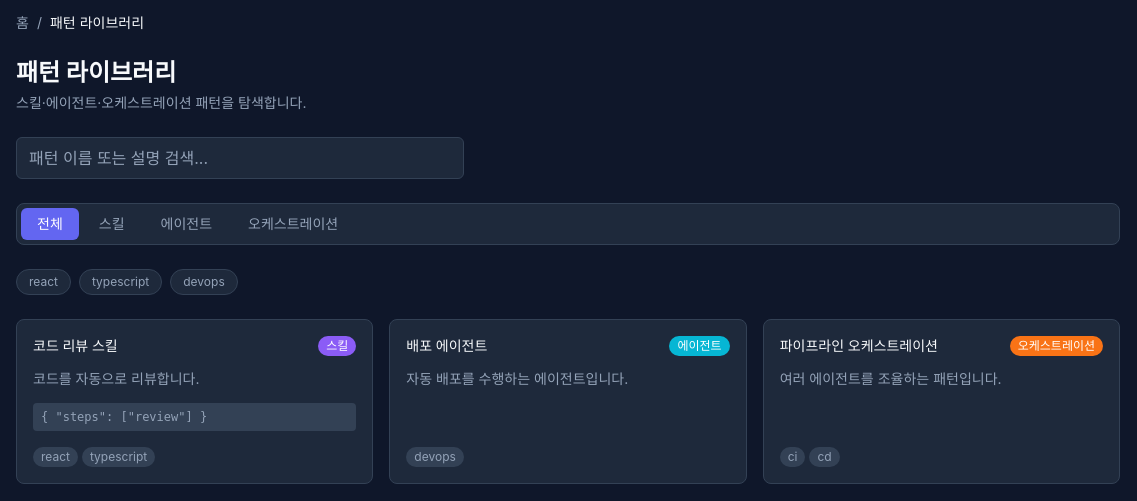
Test: PatternLibrary Integration › 시나리오 2: 유형 필터 › "전체" 탭 클릭 시 모든 패턴이 다시 표시된다
Expected: the heading "코드 리뷰 스킬" is shown, [33,337,118,354]
Filter to agent
Step 1. Click the tab "에이전트" → (186,224), box [144,208,228,240]
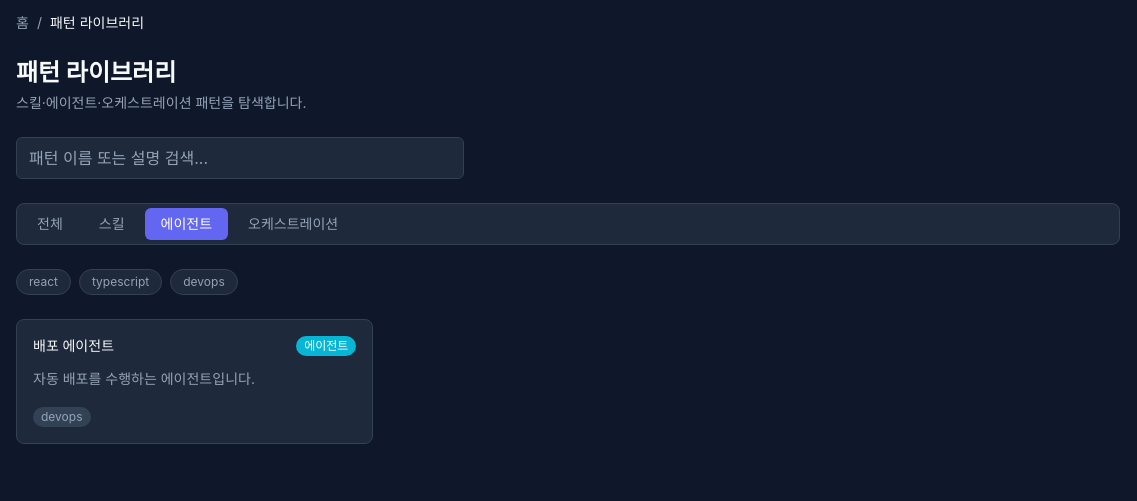
Now the link "코드 리뷰 스킬" is gone
Step 2. Click the tab "전체" → (50,224), box [21,208,79,240]
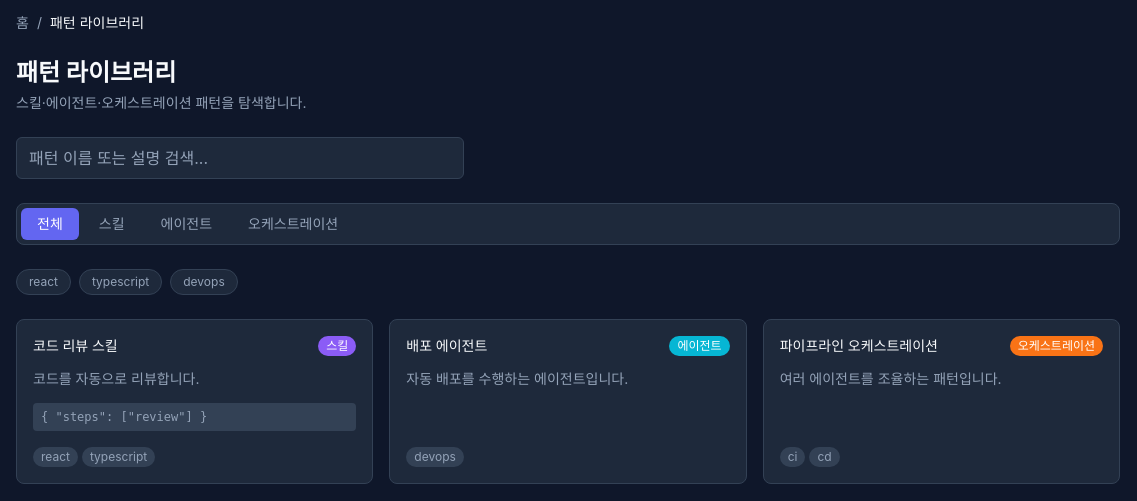
Expected: the heading "배포 에이전트" is shown, [406,337,487,354]
Now the heading "코드 리뷰 스킬" is shown, box [33,337,118,354]
